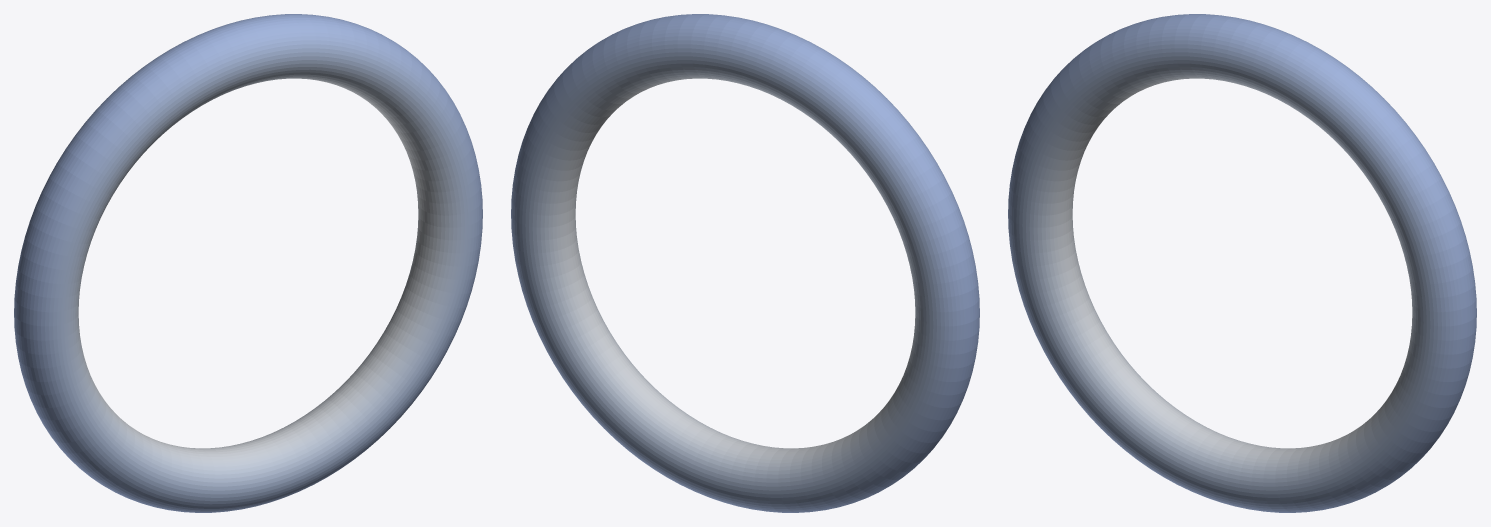
3 renders of one model, left to right at view 1: azimuth 30°, elevation 25°; view 2: azimuth 150°, elevation 25°; view 3: azimuth 330°, elevation 25°, orthographic.
Visible parts, largest first — view 1: world; view 2: world; view 3: world.
Part boxes in pixels (bbox=[...]): world: bbox=[14, 14, 482, 512]; world: bbox=[511, 14, 979, 512]; world: bbox=[1008, 14, 1476, 512].
Bounding box in the file's own units: 29.6 × 29.6 × 3.59.
